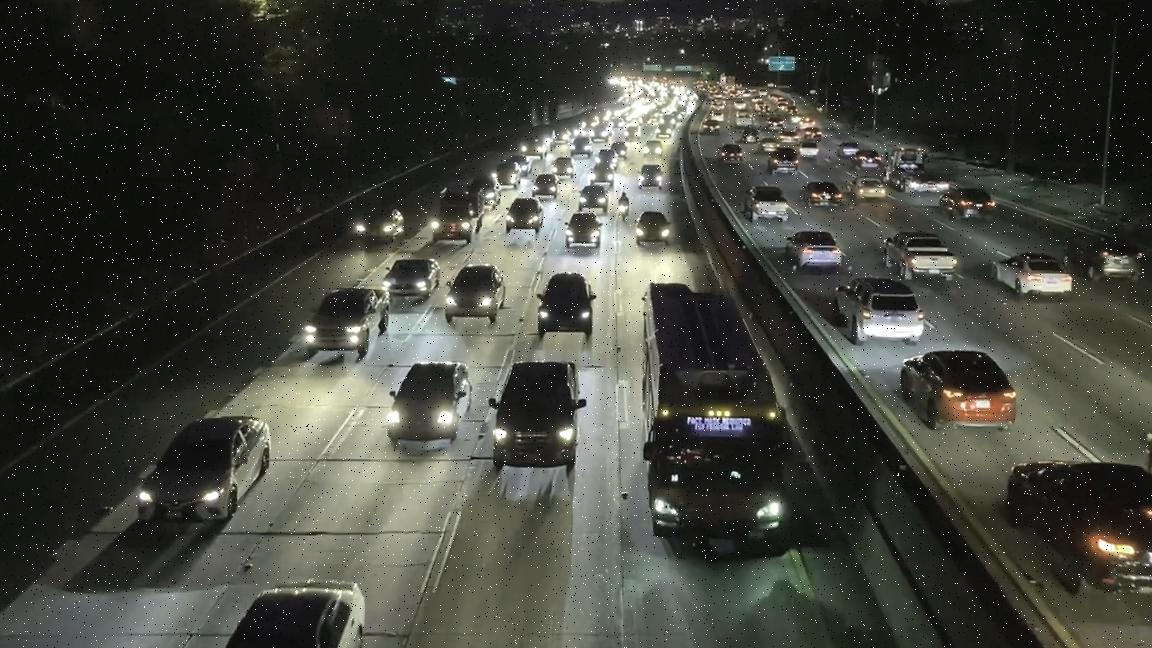bike: (617, 191, 632, 221)
bus: (631, 279, 802, 564)
car: (998, 448, 1152, 600), (134, 415, 278, 528), (180, 577, 377, 648), (489, 352, 590, 488), (893, 343, 1025, 445), (825, 270, 926, 352), (389, 359, 476, 448), (300, 283, 395, 361), (874, 228, 958, 284), (534, 272, 596, 340), (1073, 234, 1149, 285), (993, 250, 1073, 298), (444, 265, 511, 322), (782, 227, 846, 273), (380, 256, 444, 300), (352, 204, 410, 242), (939, 184, 995, 223), (742, 185, 791, 223), (504, 197, 546, 234), (633, 209, 679, 241), (566, 211, 602, 251), (801, 180, 843, 208), (766, 148, 799, 178), (531, 172, 564, 201), (577, 184, 610, 212), (849, 174, 884, 200), (636, 163, 663, 192), (714, 142, 746, 163), (850, 149, 882, 169), (795, 138, 821, 159)
truck: (884, 145, 949, 194), (430, 187, 483, 241)
